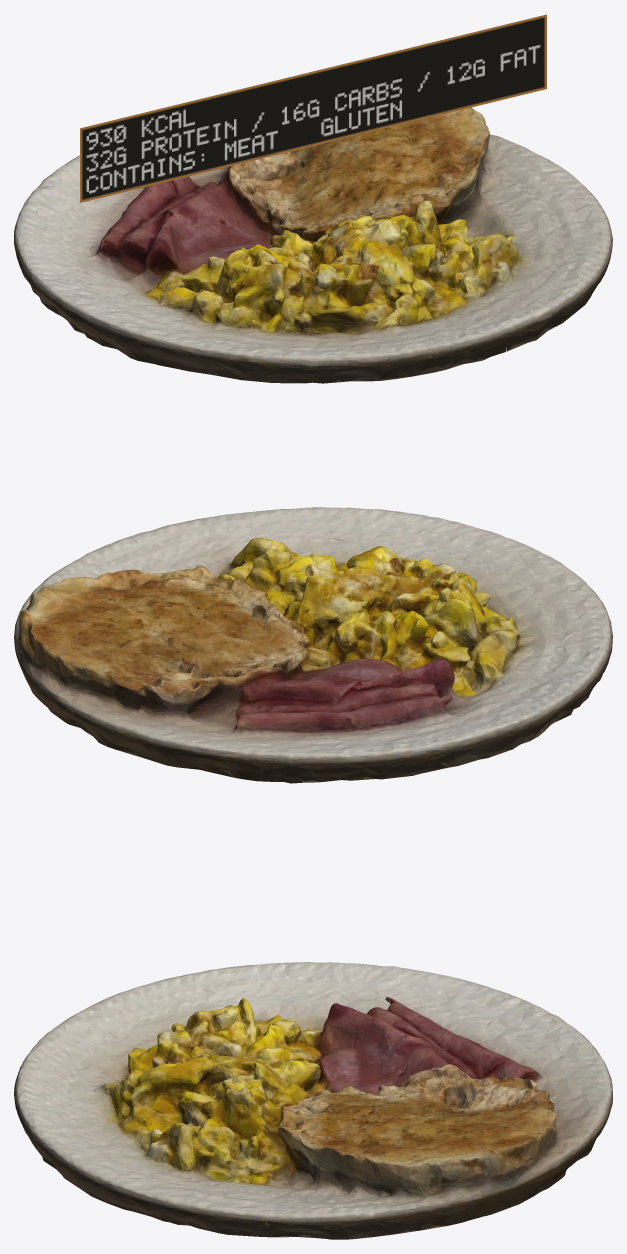
3 views of the same model, one above another, from view 1: azimuth 30°, elevation 25°; view 2: azimuth 150°, elevation 25°; view 3: azimuth 270°, elevation 25° (orthographic).
Parts seen in each view (by area): view 1: object 1, nutrition-panel-node; view 2: object 1; view 3: object 1.
Part boxes in pixels (x1,y1,x2,y2): object 1: (14, 107, 612, 383); nutrition-panel-node: (80, 14, 546, 202); object 1: (14, 507, 612, 783); object 1: (14, 962, 612, 1239).
Size of the model in its own units: 0.7639 by 0.2693 by 0.7632.
Materials: 2 (2 with a texture image).
